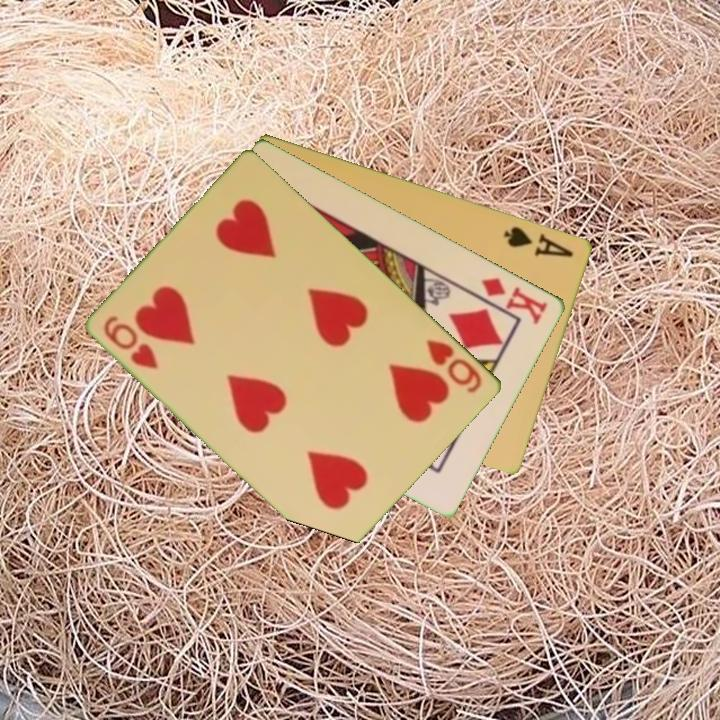6h: (423, 335, 486, 396), (100, 312, 162, 372)
As: (500, 222, 577, 260)
Kd: (478, 273, 552, 328)
